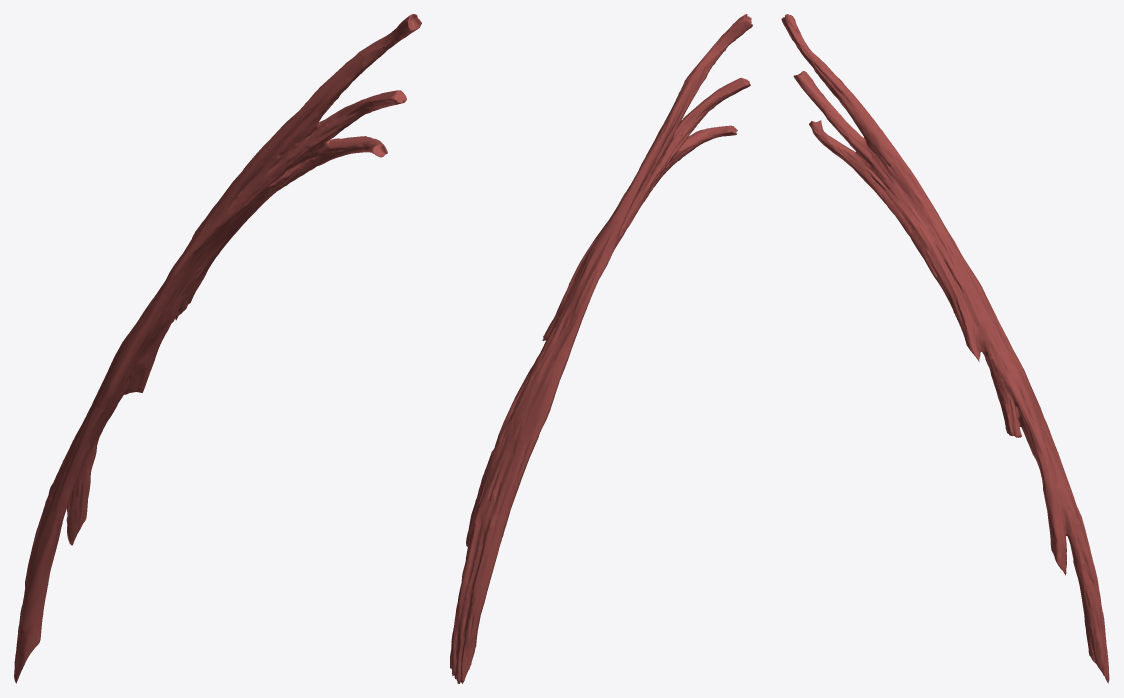
Rendered from FMA22745.glb.
The picture shows the model from 3 angles, left to right: view 1: azimuth 90°, elevation 25°; view 2: azimuth 150°, elevation 25°; view 3: azimuth 270°, elevation 25°; orthographic projection. The views are drawn at different scales.
Visible parts, largest first — view 1: FMA22745; view 2: FMA22745; view 3: FMA22745.
Boxes of the visible parts, x1,y1,x2,y2 form: FMA22745: (14,14,421,683); FMA22745: (450,14,752,683); FMA22745: (781,14,1109,683).
Bounding box in the file's own units: 0.0482 × 0.1707 × 0.0841.
